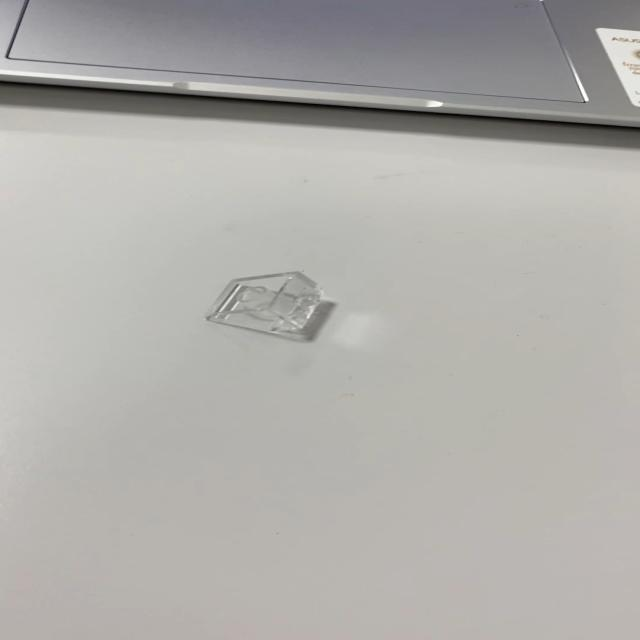P2x2x1: (201, 269, 332, 342)
